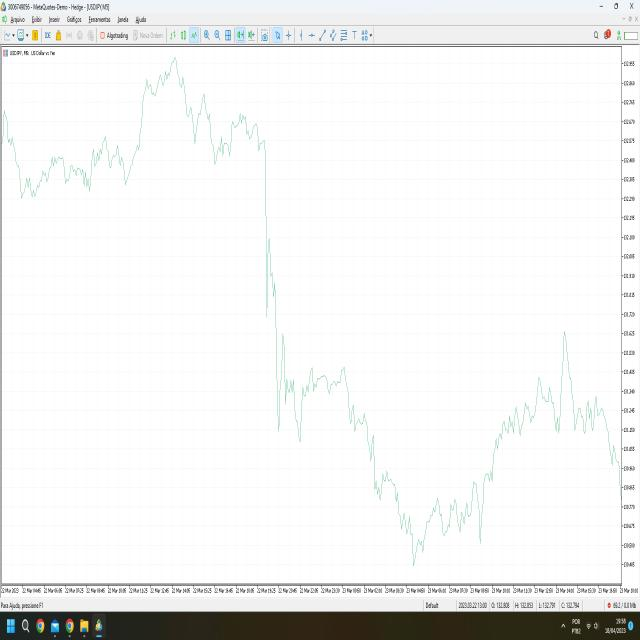bandeira_baixa: (254, 109, 333, 463)
